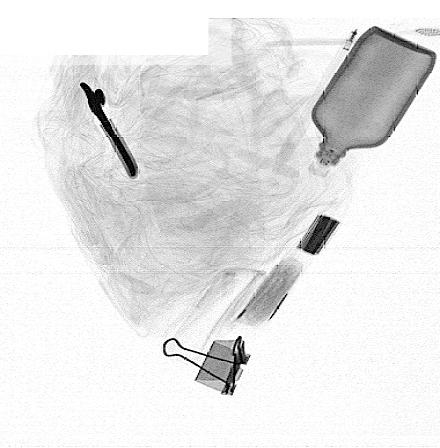Pliers: (76, 79, 143, 180)
